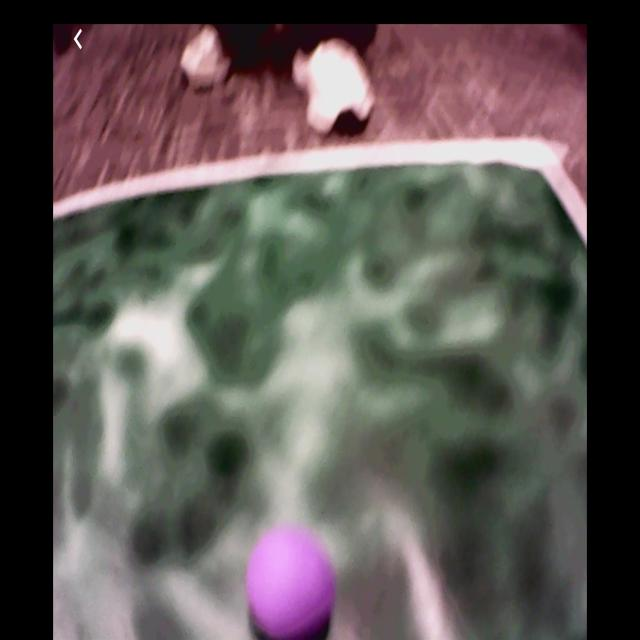ball: (247, 523, 336, 640)
